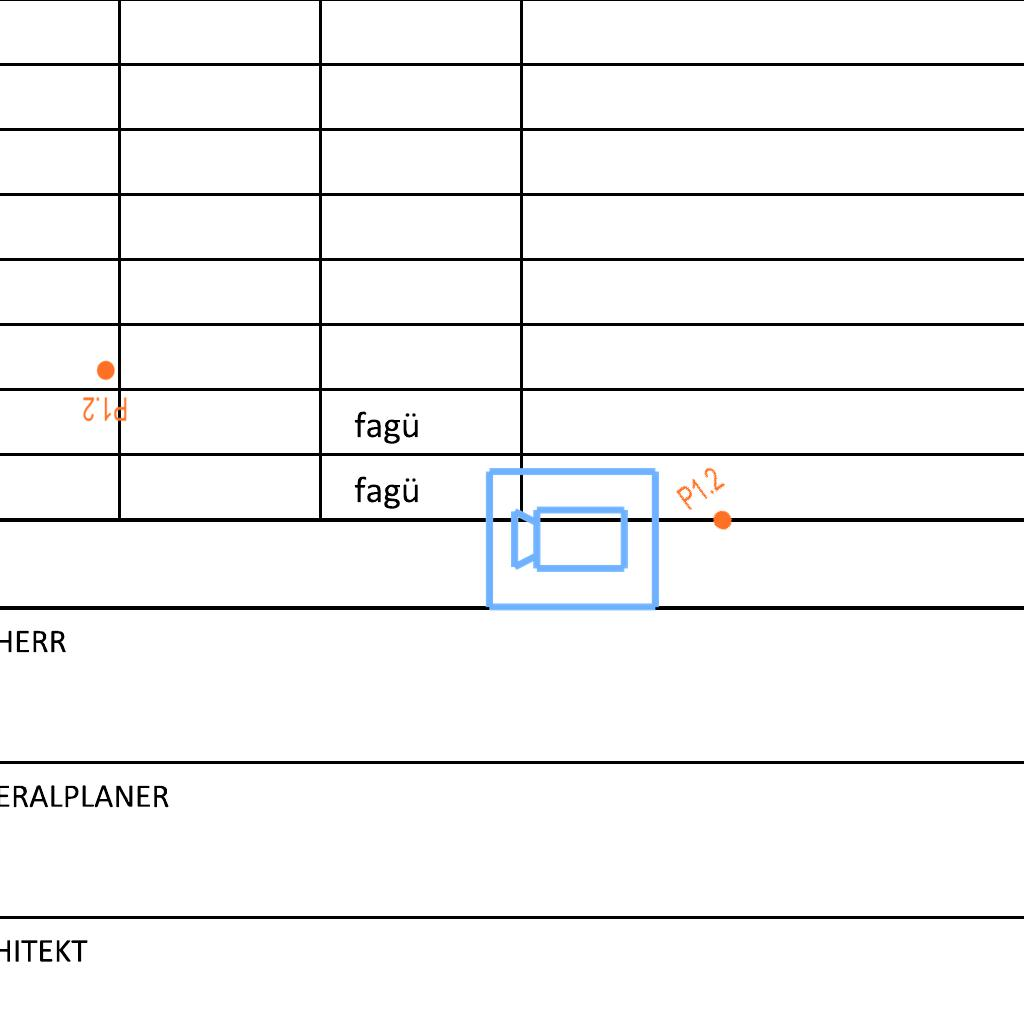Downlight_LED_Einbauleuchten_Flur: (673, 463, 749, 543), (82, 359, 128, 423)
KFO_Kamera_mit_Festobjektiv: (482, 461, 664, 615)
